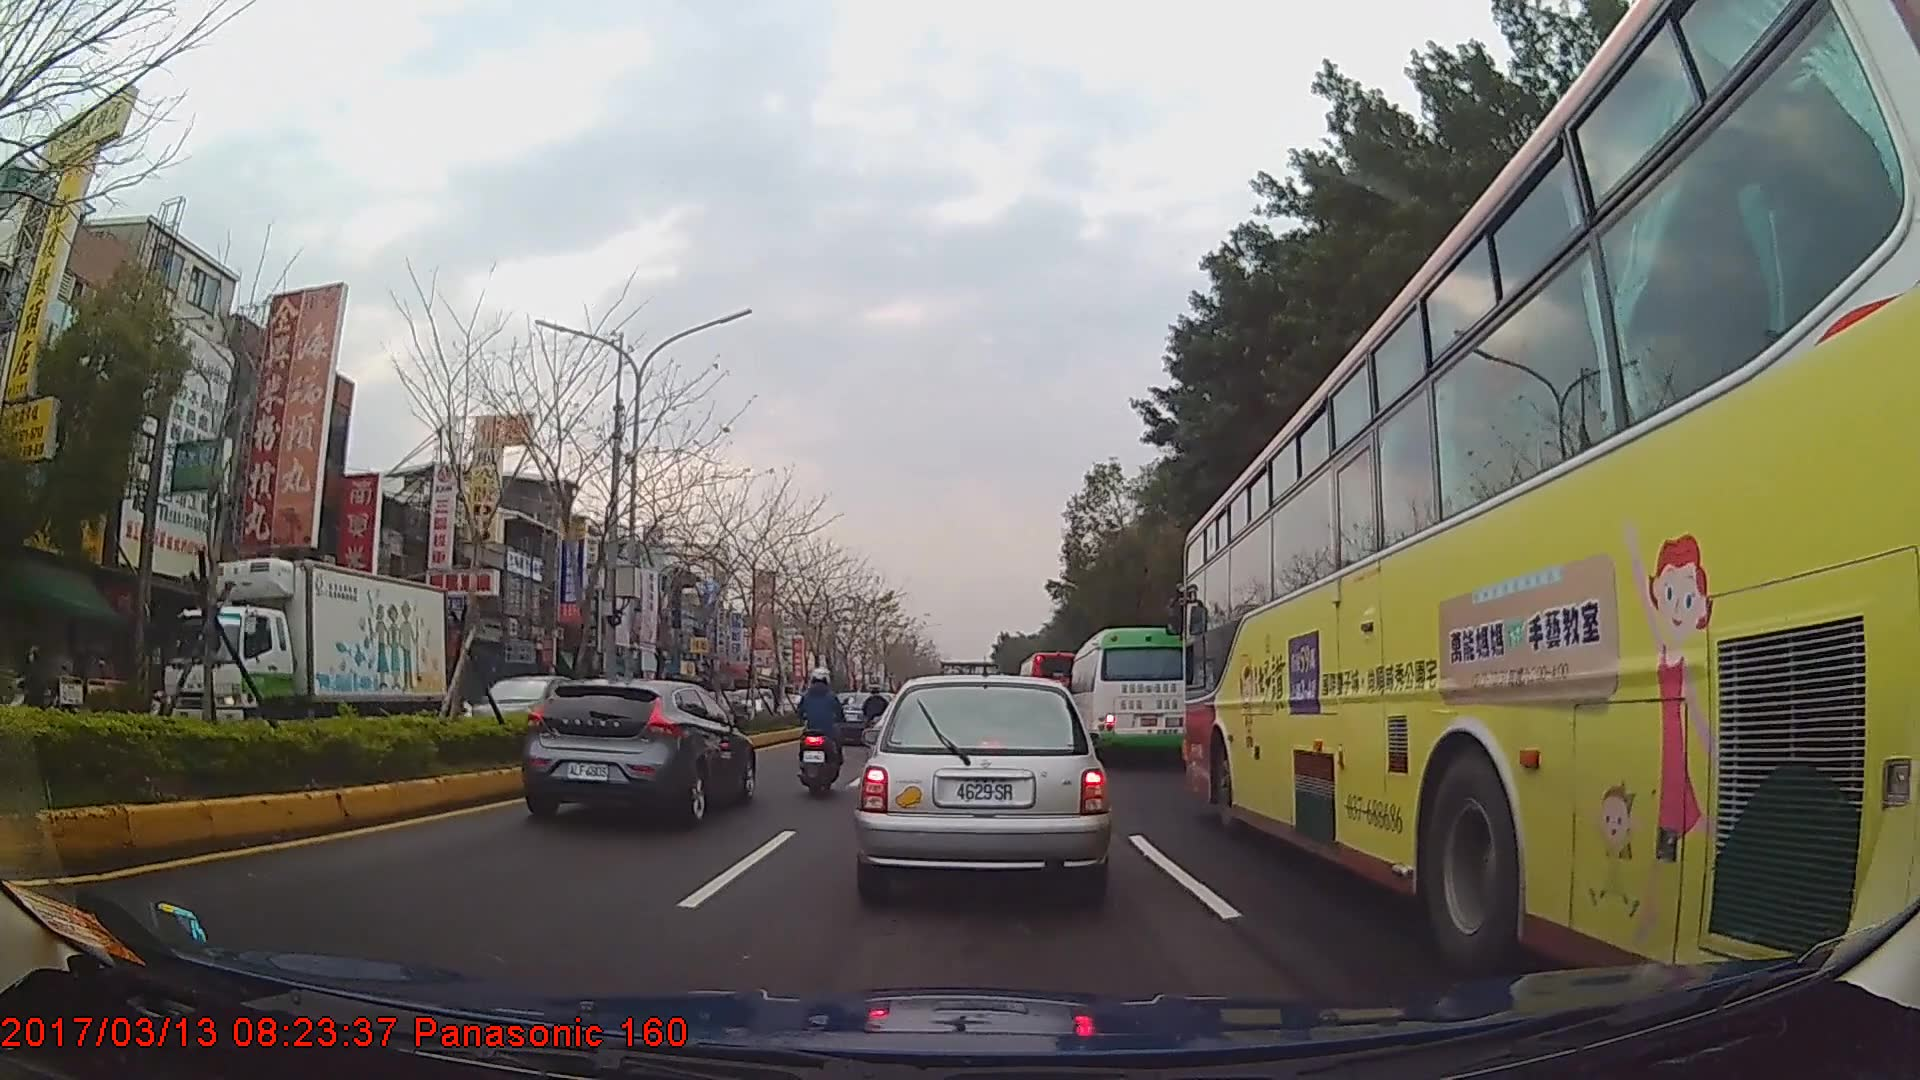rider: (799, 667, 848, 785), (9, 644, 60, 711), (863, 687, 889, 751)
vehicle: (1184, 0, 1920, 1024), (855, 671, 1107, 902), (157, 553, 443, 753), (521, 672, 756, 821), (1069, 622, 1190, 761), (457, 673, 585, 748), (1015, 646, 1083, 718)
